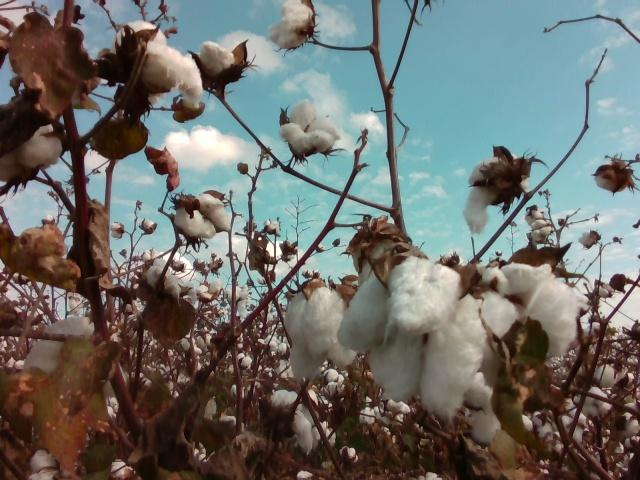cotton_ready: (340, 256, 488, 413), (21, 315, 119, 416), (479, 265, 581, 362), (115, 22, 207, 111), (284, 282, 355, 379), (465, 154, 532, 233), (465, 369, 538, 440), (355, 238, 435, 288), (0, 124, 64, 184), (279, 100, 341, 154), (577, 385, 640, 435), (174, 191, 234, 240), (142, 256, 194, 311), (271, 389, 313, 454), (268, 0, 315, 50), (199, 41, 237, 85)
